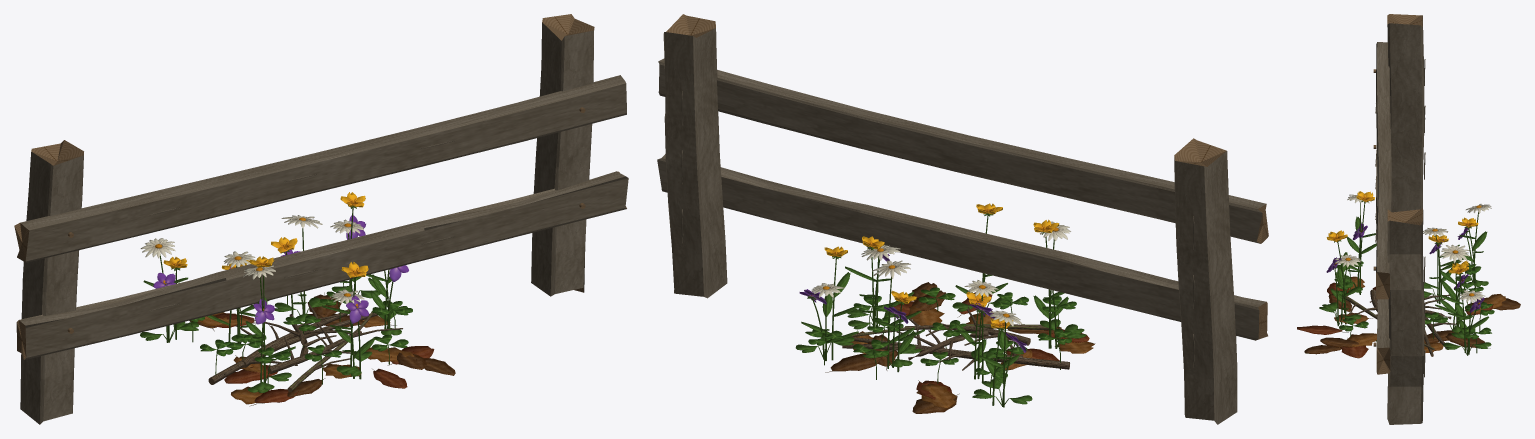
Rendered from ground_detail_v001.glb.
3 renders of one model, left to right at view 1: azimuth 30°, elevation 25°; view 2: azimuth 150°, elevation 25°; view 3: azimuth 270°, elevation 25°, orthographic. The views are drawn at different scales.
Visible parts, largest first — view 1: fence_short, ground_leaves, flower_violet, flower_daisy, twig_cluster, clover_patch, flower_buttercup; view 2: fence_short, ground_leaves, flower_daisy, flower_buttercup, clover_patch, flower_violet, twig_cluster; view 3: fence_short, ground_leaves, flower_daisy, flower_buttercup, flower_violet, clover_patch, twig_cluster.
Part boxes in pixels (x1,y1,x2,y2): fence_short: [14, 14, 628, 424]; ground_leaves: [189, 292, 455, 406]; flower_violet: [140, 215, 408, 392]; flower_daisy: [140, 215, 391, 382]; twig_cluster: [208, 304, 402, 392]; clover_patch: [190, 283, 412, 384]; flower_buttercup: [143, 192, 389, 382]; fence_short: [657, 14, 1268, 424]; ground_leaves: [825, 282, 1095, 413]; flower_daisy: [811, 221, 1070, 407]; flower_buttercup: [801, 203, 1068, 405]; clover_patch: [805, 287, 1076, 398]; flower_violet: [795, 247, 1086, 406]; twig_cluster: [842, 306, 1069, 370]; fence_short: [1373, 14, 1425, 424]; ground_leaves: [1297, 276, 1520, 358]; flower_daisy: [1334, 193, 1491, 354]; flower_buttercup: [1326, 191, 1487, 353]; flower_violet: [1319, 223, 1491, 355]; clover_patch: [1336, 261, 1494, 353]; twig_cluster: [1342, 289, 1456, 356].
Bounding box in the file's own units: 1.8 × 0.7508 × 0.7272.
Materials: 1 (1 with a texture image).
